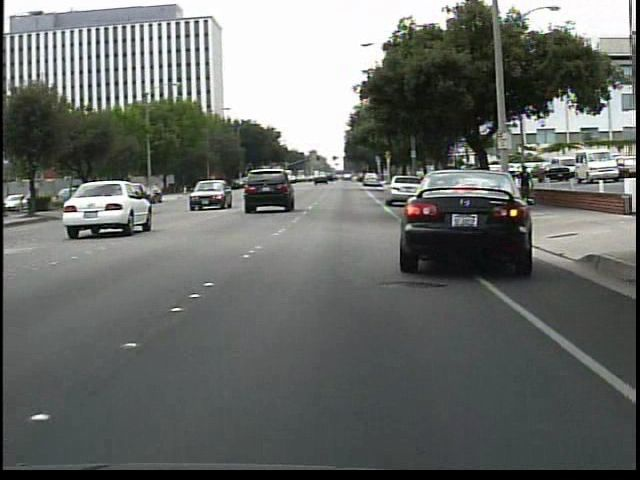person: (499, 166, 518, 207), (515, 162, 534, 201)
